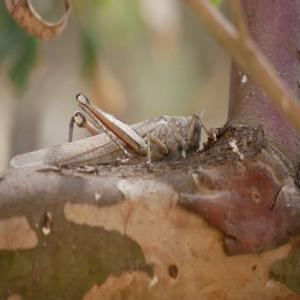locust: (8, 85, 208, 184)
